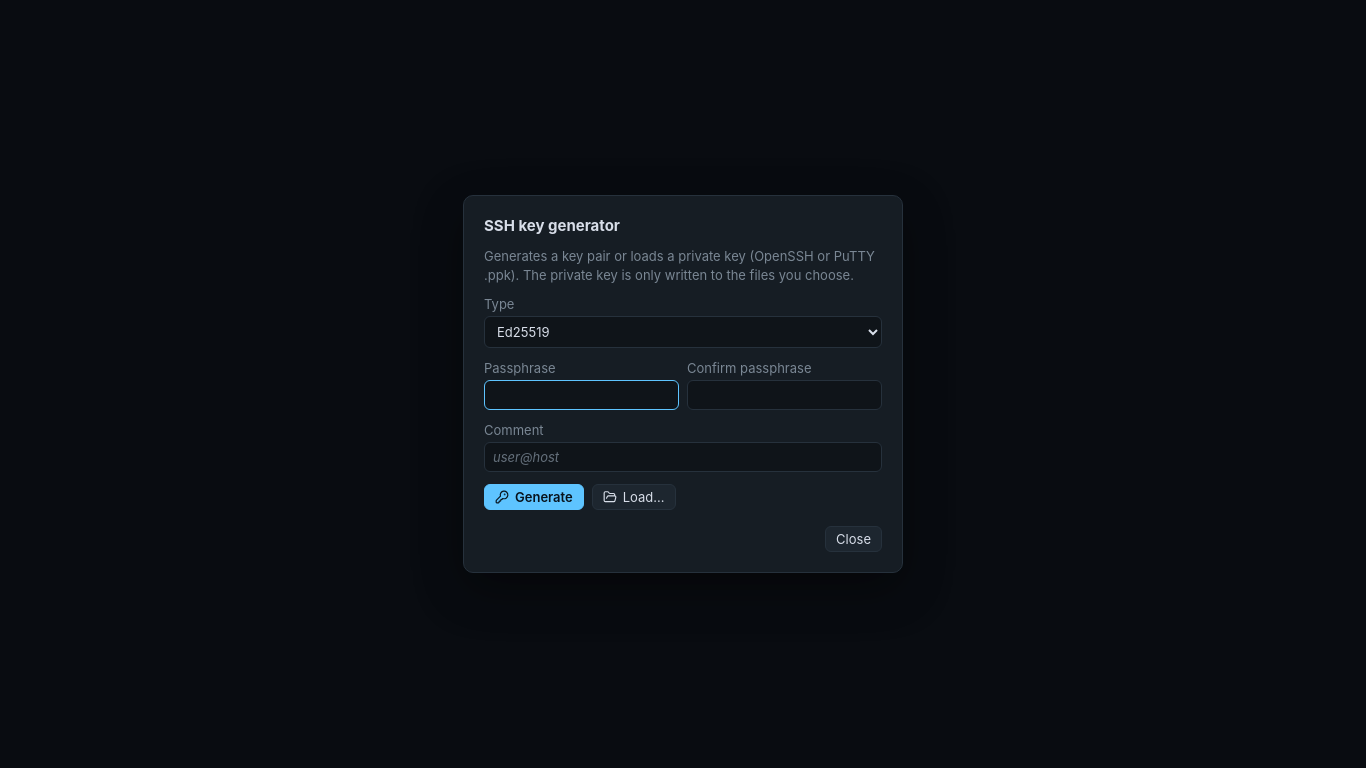
Test: KeyGenDialog › saves the key as a PuTTY .ppk file
The image size is (1366, 768).
In the field labelled "Comment": point(683, 457) [484,442,882,472], type "me@laptop"
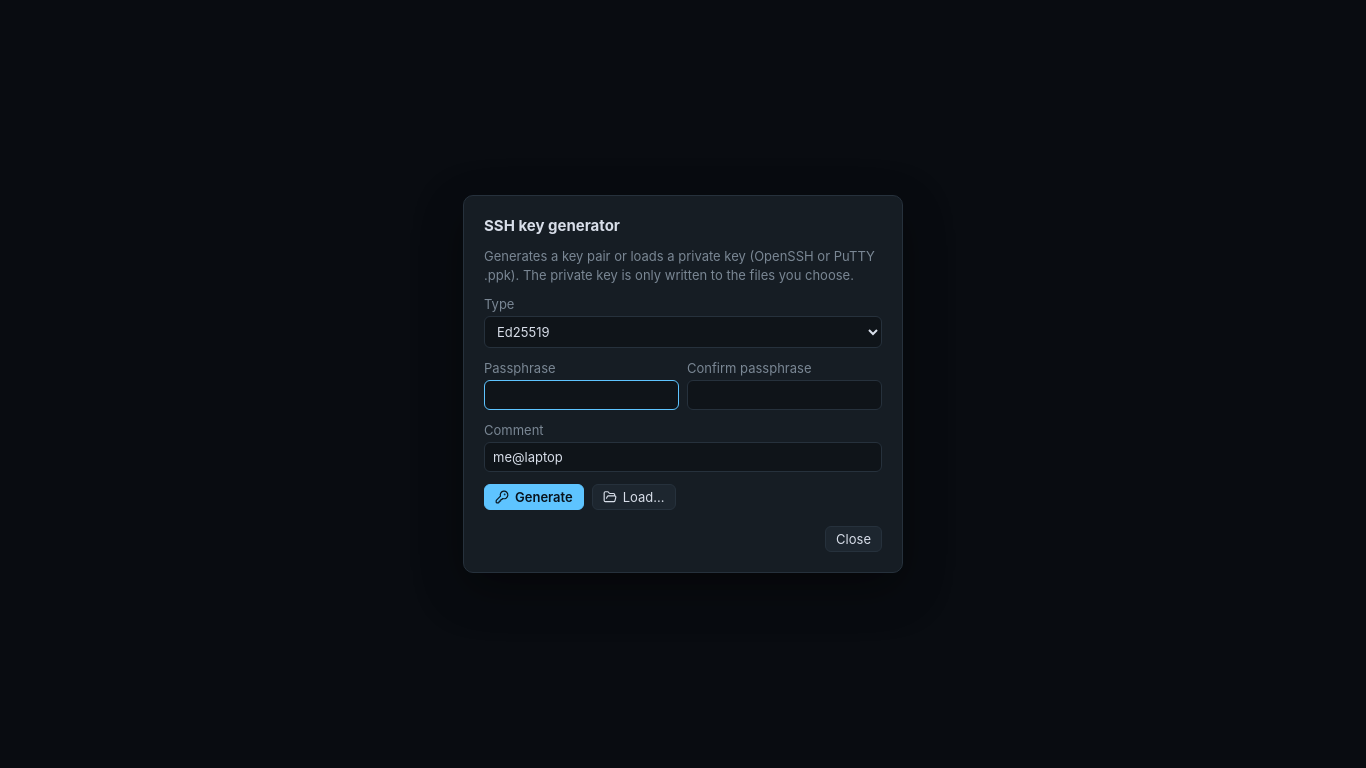
Click the button "Generate": point(534, 497) [484,484,584,510]
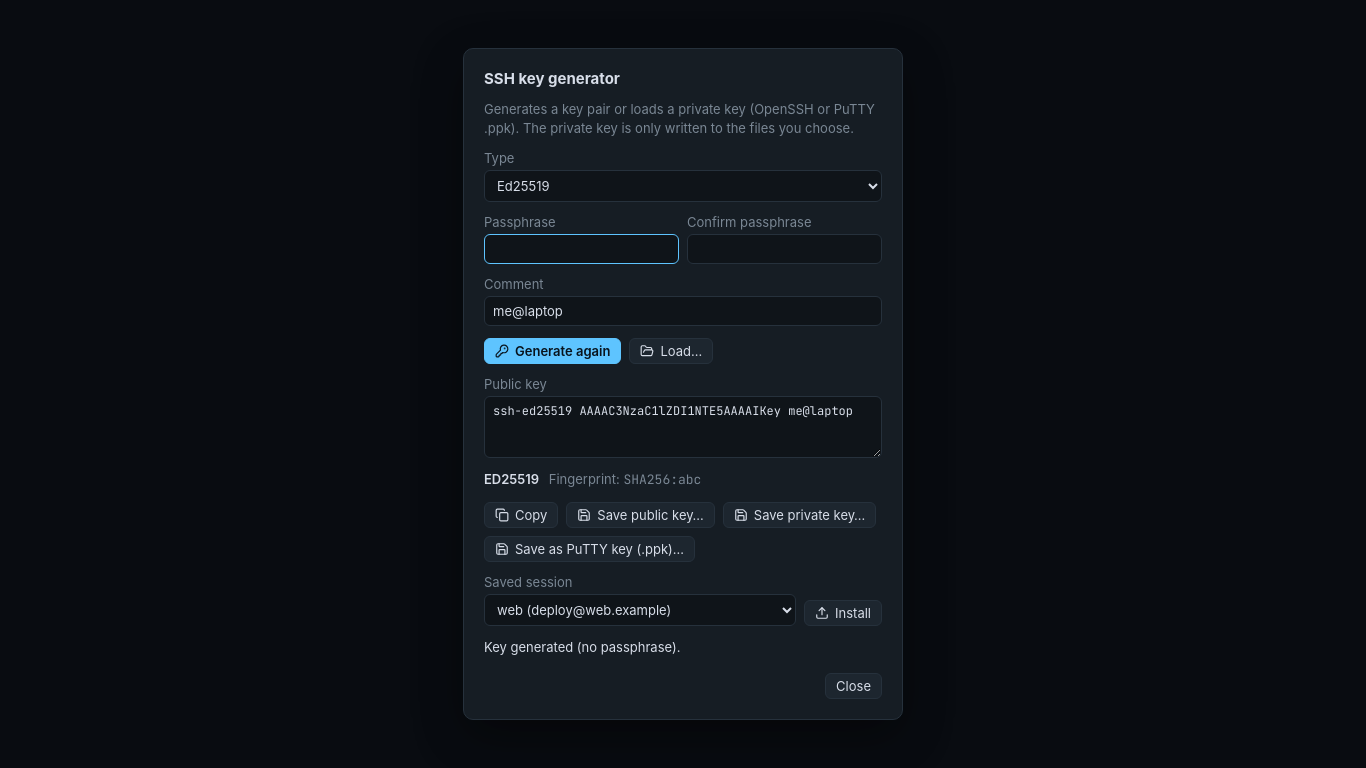
Click the button "Save as PuTTY key (.ppk)…": point(590, 549) [484,536,695,562]
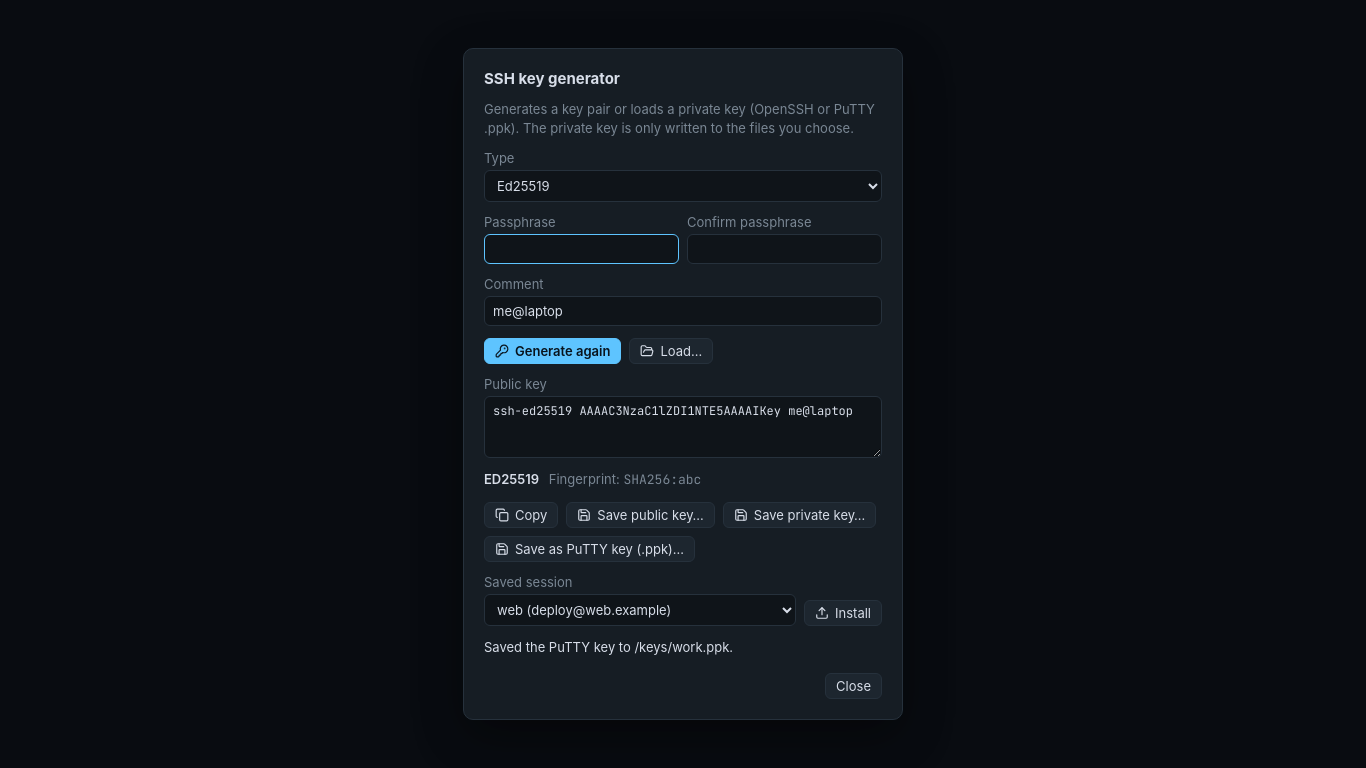
Now the message reads "Saved the PuTTY key to /keys/work.ppk.", box [484,639,733,655]
